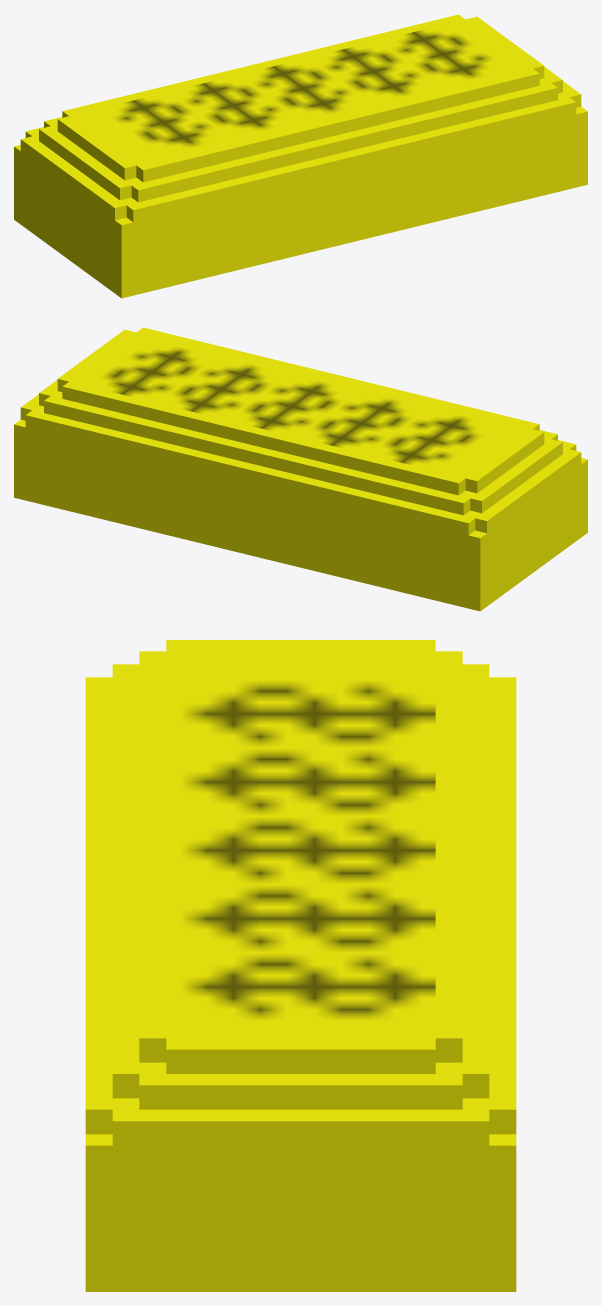
Rendered from goldbar.fbx.
3 views of the same model, one above another, from view 1: azimuth 30°, elevation 25°; view 2: azimuth 150°, elevation 25°; view 3: azimuth 270°, elevation 25° (orthographic). The views are drawn at different scales.
Parts seen in each view (by area): view 1: goldbar; view 2: goldbar; view 3: goldbar.
Boxes of the visible parts, bbox=[...] form: goldbar: bbox=[14, 14, 587, 298]; goldbar: bbox=[14, 327, 587, 611]; goldbar: bbox=[85, 640, 516, 1291].
Size of the model in its own units: 60 by 13.5 by 24.
